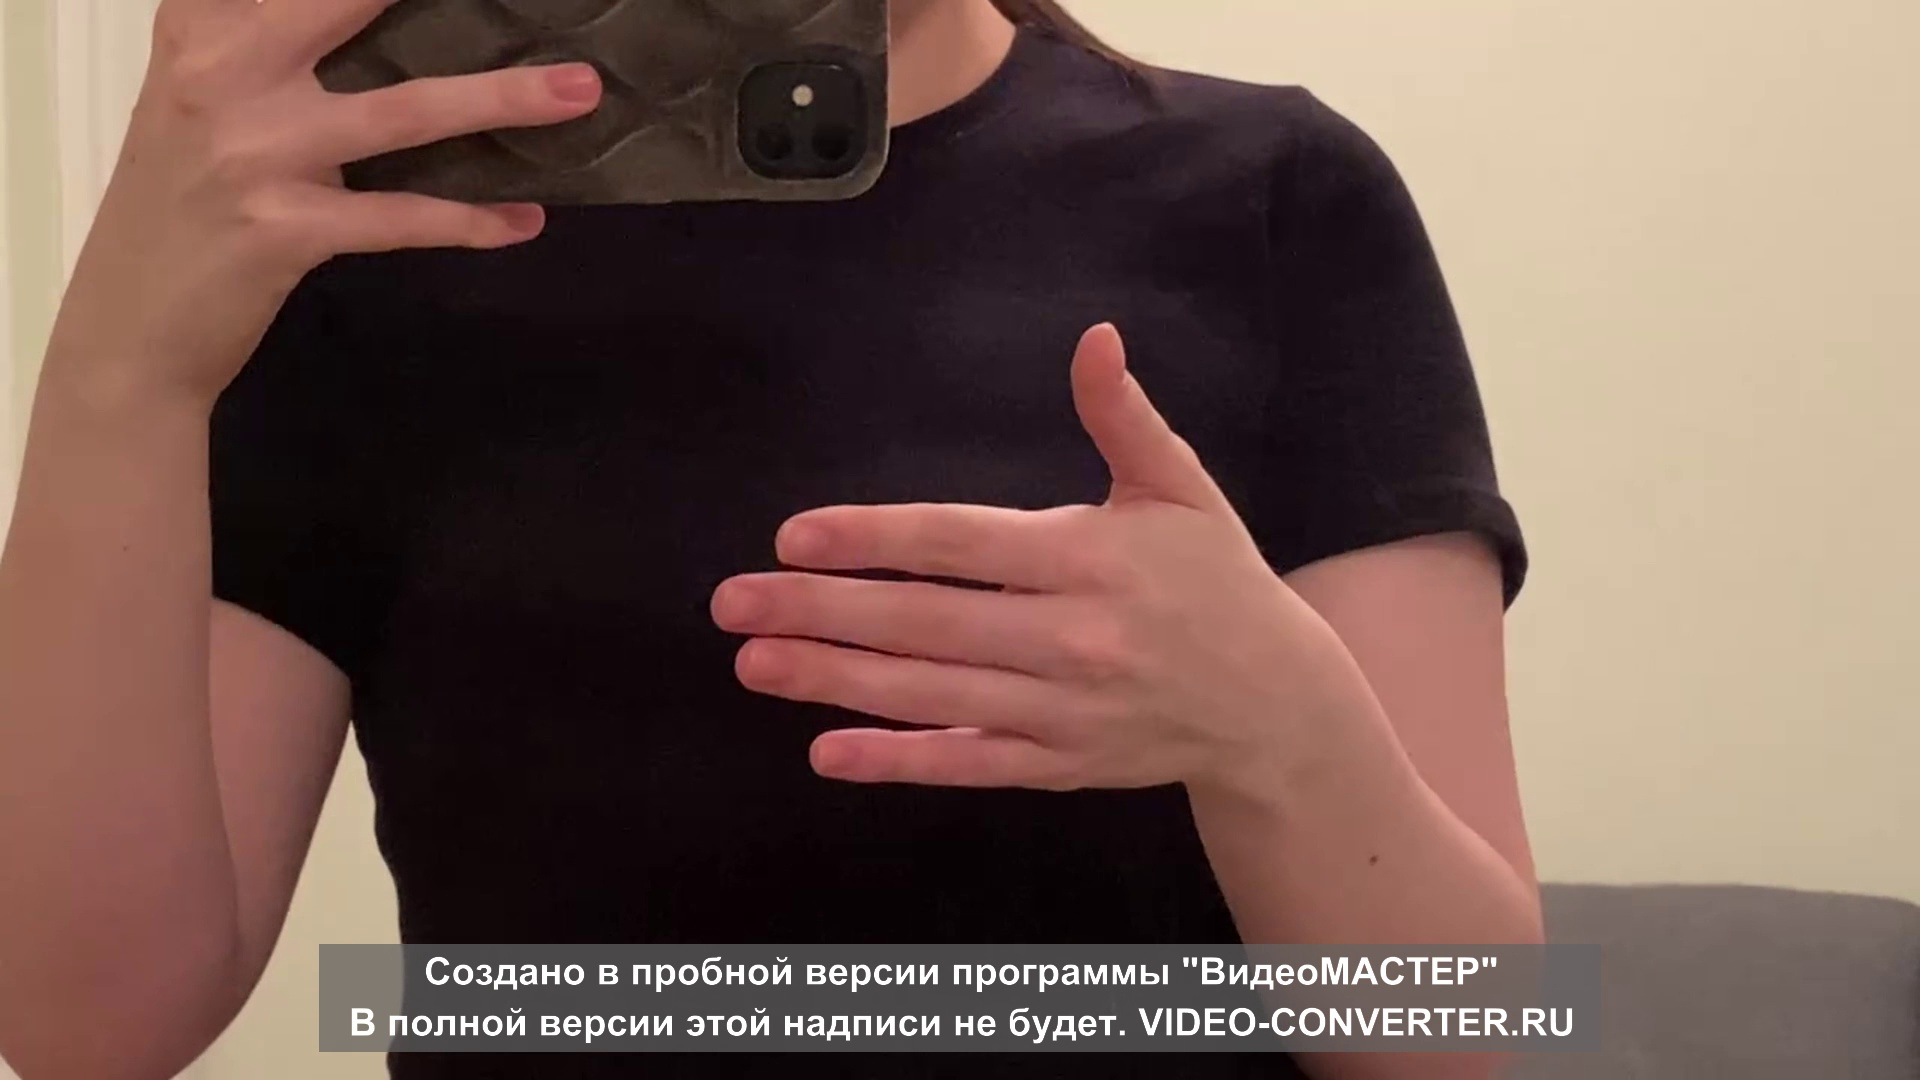Кисть: (711, 316, 1251, 793)
